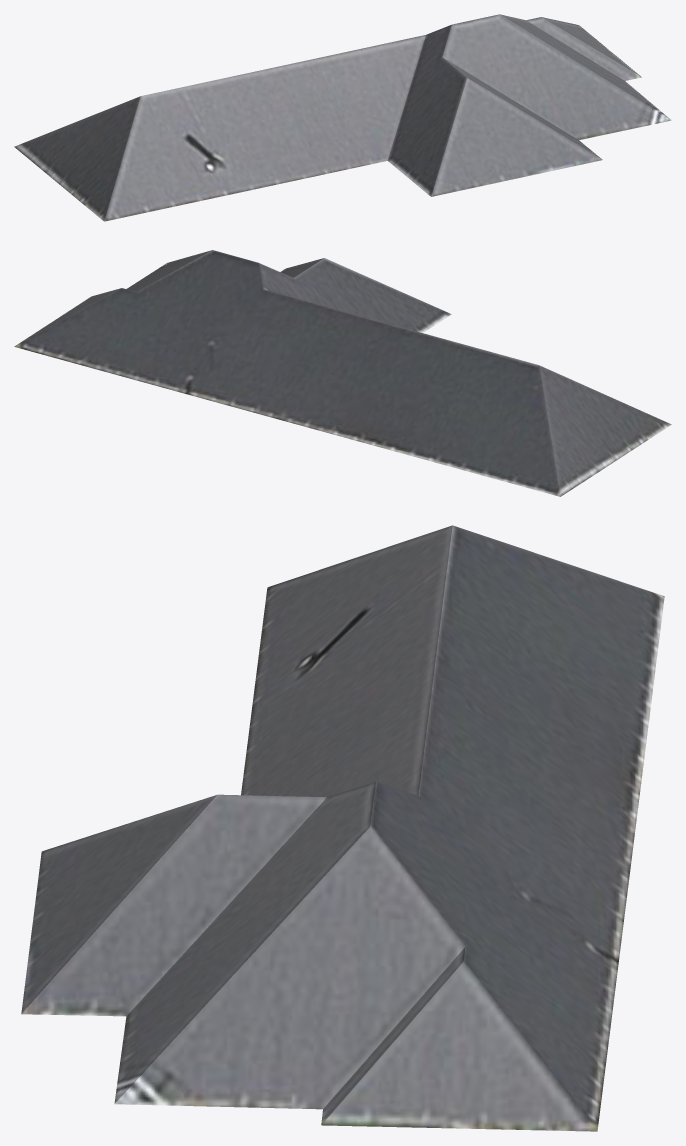
The model's file is CG10_500_039070_0032_roof.obj.
3 views of the same model, one above another, from view 1: azimuth 30°, elevation 25°; view 2: azimuth 150°, elevation 25°; view 3: azimuth 270°, elevation 25° (orthographic). The views are drawn at different scales.
Parts seen in each view (by area): view 1: CG10_500_039070_0032_roof; view 2: CG10_500_039070_0032_roof; view 3: CG10_500_039070_0032_roof.
Part boxes in pixels (left/top/right/bottom): CG10_500_039070_0032_roof: left=14, top=14, right=671, bottom=221; CG10_500_039070_0032_roof: left=14, top=250, right=671, bottom=496; CG10_500_039070_0032_roof: left=21, top=525, right=664, bottom=1131.
Size of the model in its own units: 476 by 70 by 238.
Materials: 1 (1 with a texture image).
